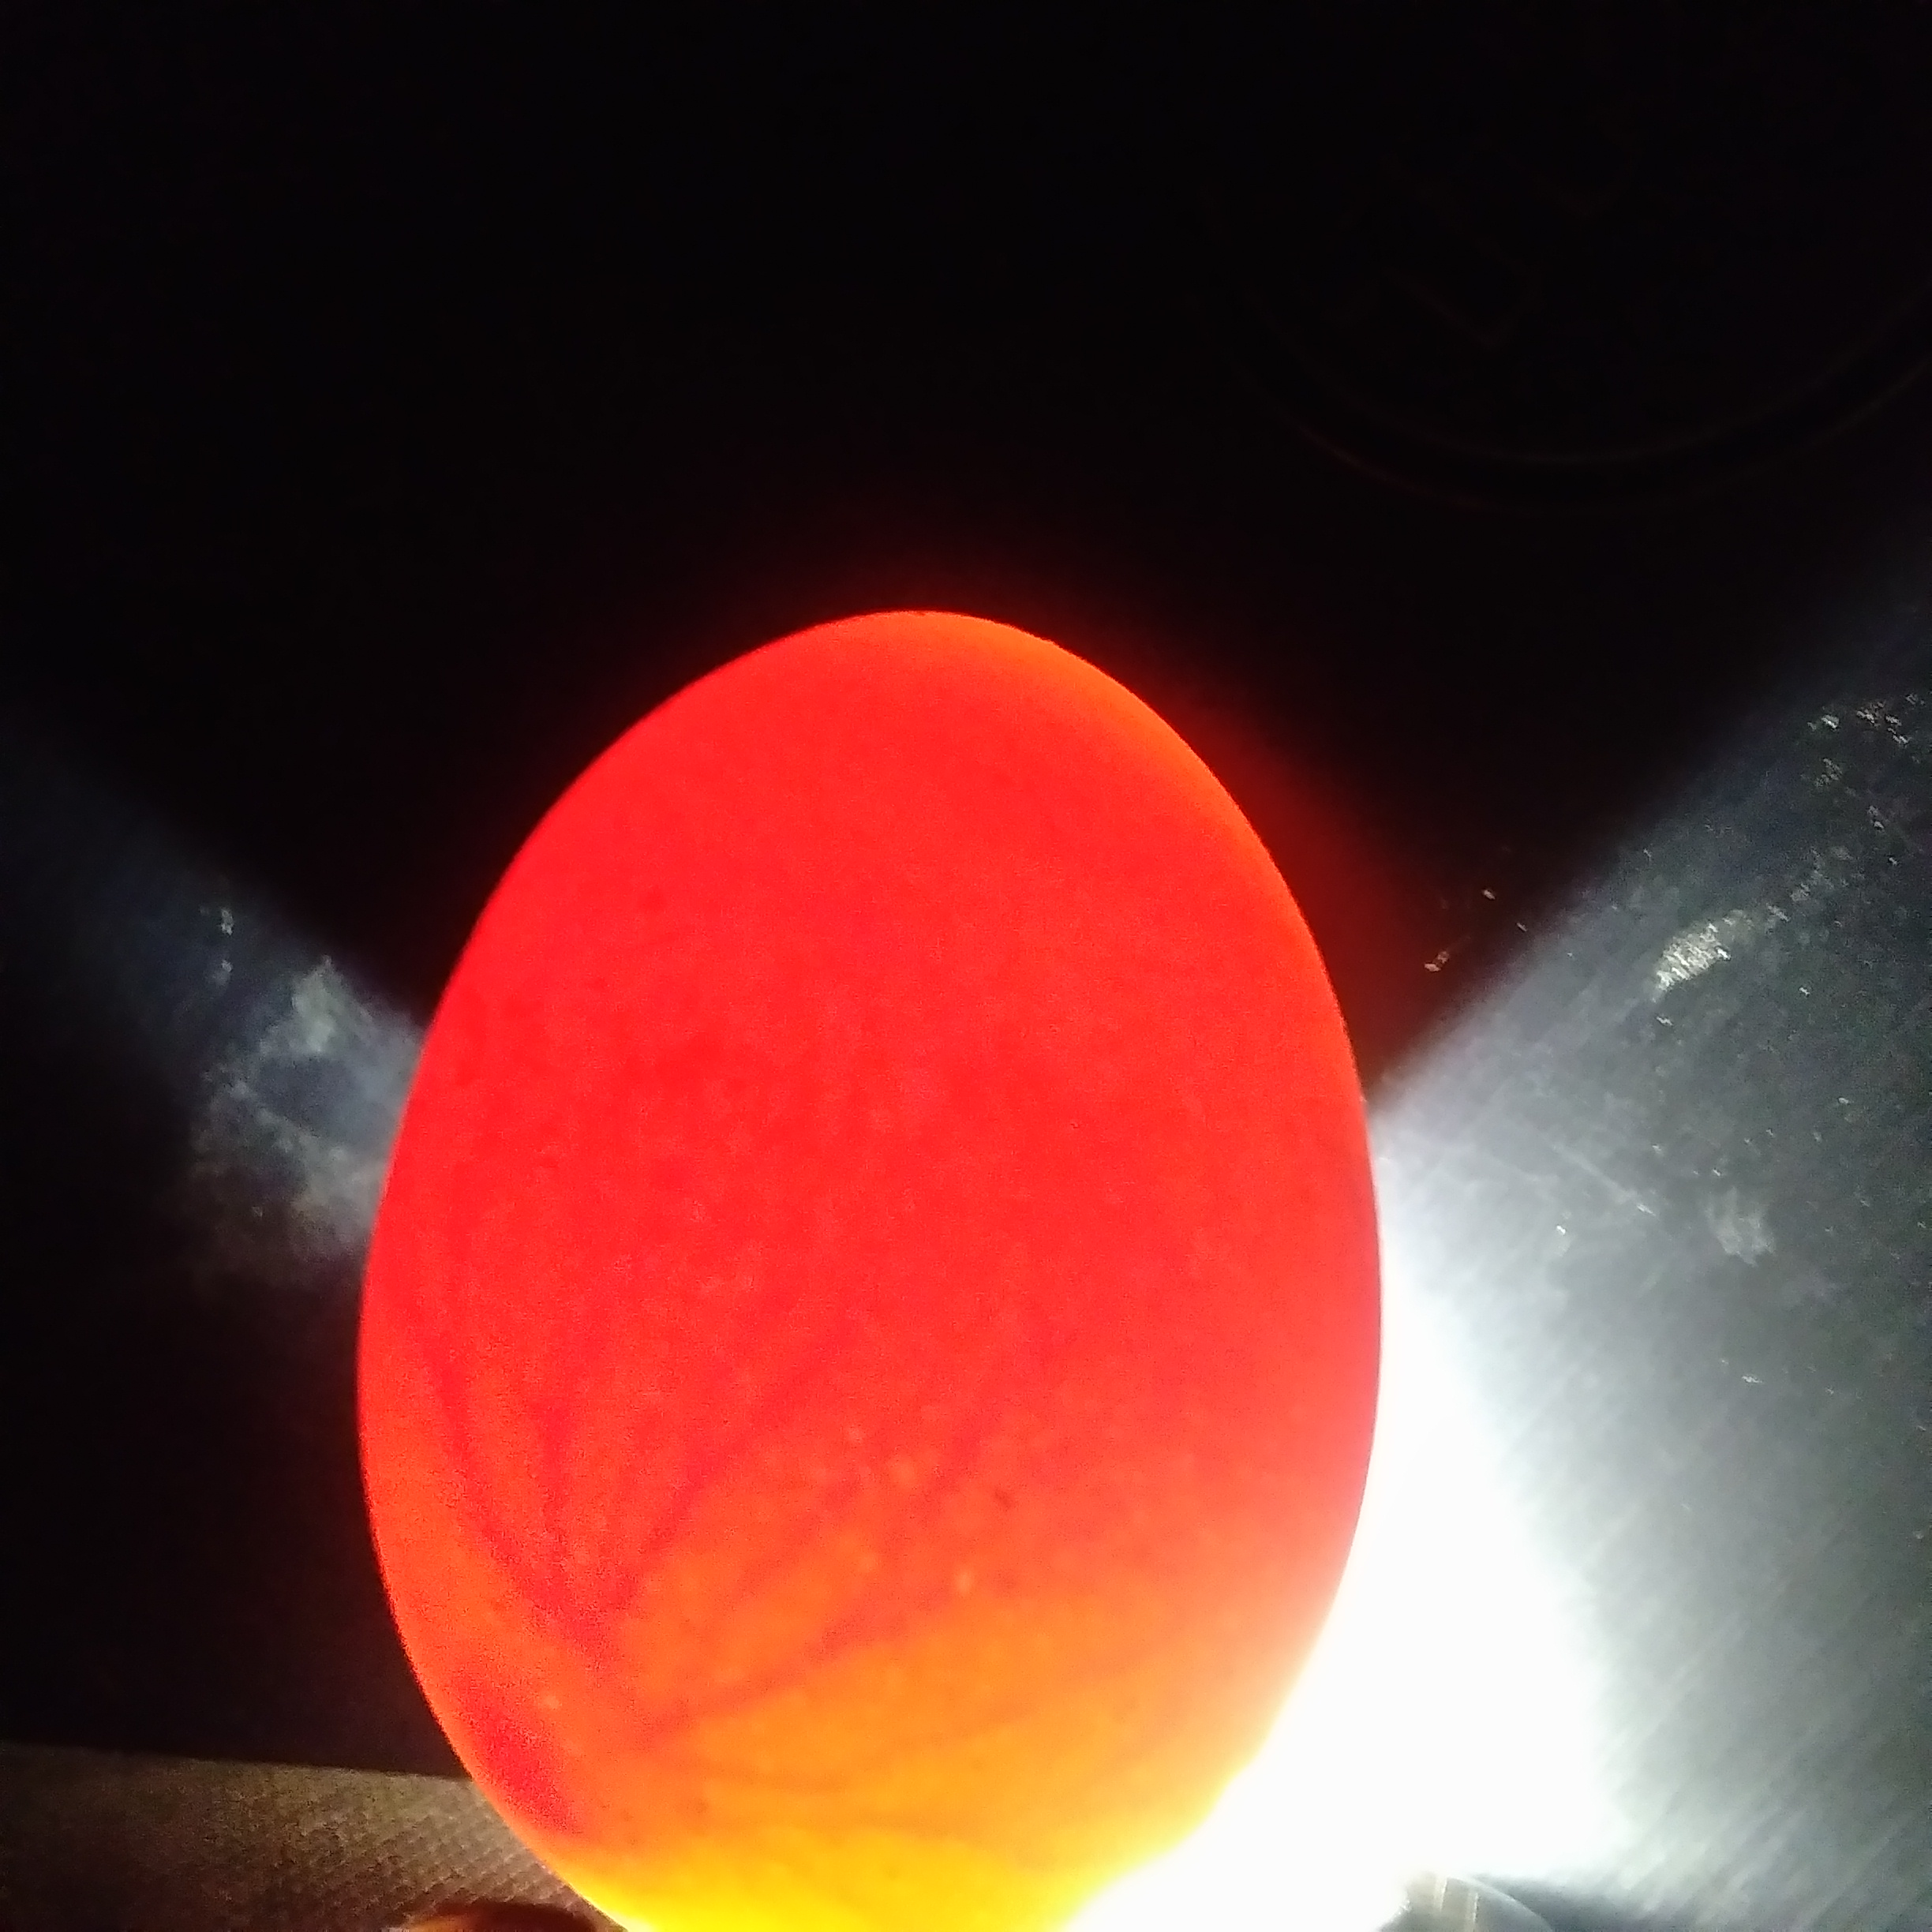bloodcell: (464, 1445, 1251, 1677), (665, 1720, 1134, 1890)
